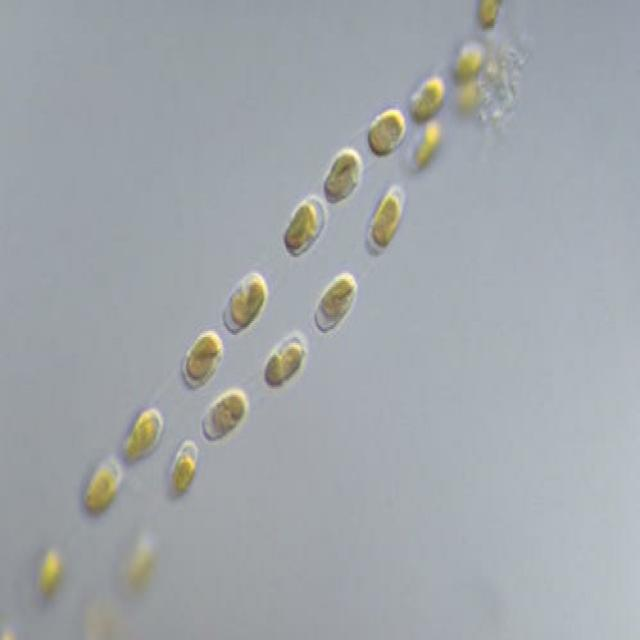Skeletonema: (4, 77, 415, 637), (74, 116, 453, 640)
